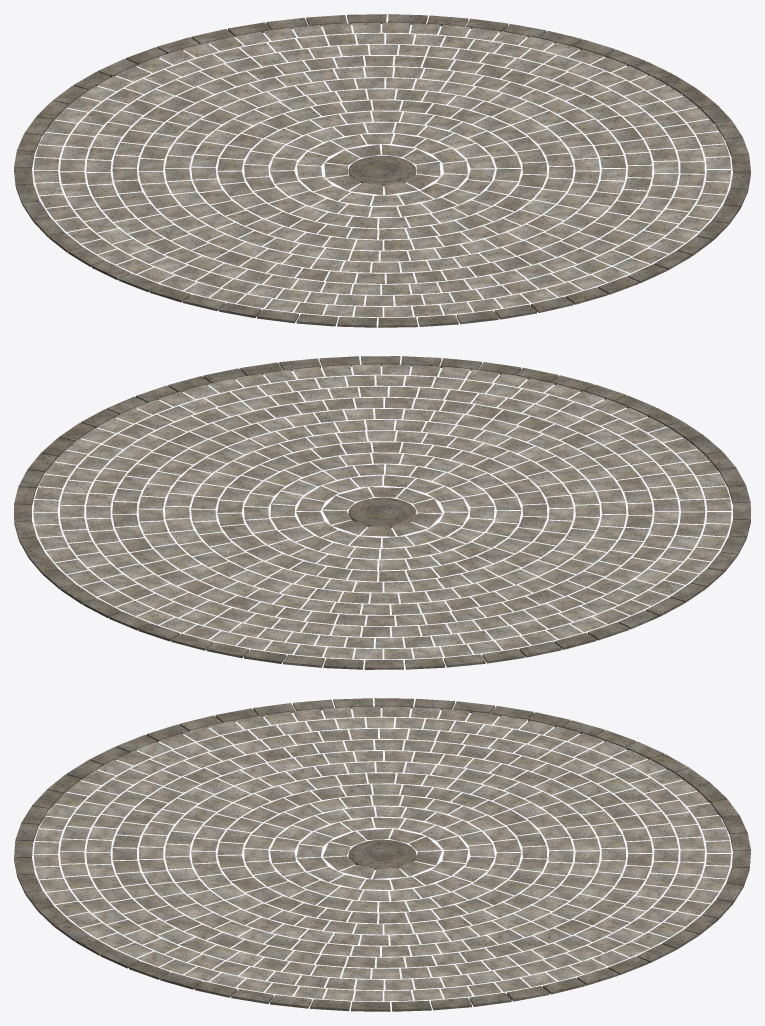
The model's file is plaza-tiles.glb.
The picture shows the model from 3 angles, top to bottom: view 1: azimuth 30°, elevation 25°; view 2: azimuth 150°, elevation 25°; view 3: azimuth 270°, elevation 25°; orthographic projection.
Visible parts, largest first — view 1: plaza-tiles; view 2: plaza-tiles; view 3: plaza-tiles.
Part boxes in pixels (box(x1,y1,x2,y2)): plaza-tiles: box(14, 14, 750, 327); plaza-tiles: box(14, 356, 750, 669); plaza-tiles: box(14, 698, 750, 1011).
Bounding box in the file's own units: 23.87 × 0.09 × 23.87.
1 material, 1 textured.
